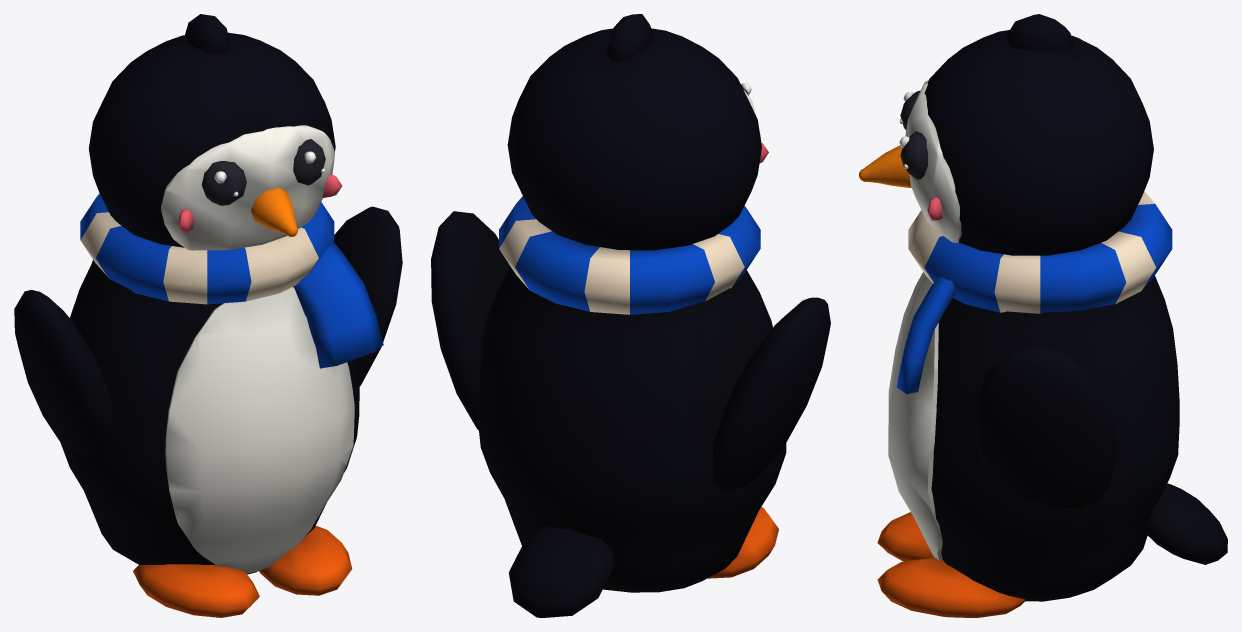
File: Penguin.fbx
The picture shows the model from 3 angles, left to right: view 1: azimuth 30°, elevation 25°; view 2: azimuth 150°, elevation 25°; view 3: azimuth 270°, elevation 25°; orthographic projection. The views are drawn at different scales.
Parts seen in each view (by area): view 1: Penguin, Head; view 2: Penguin, Head, Tail; view 3: Penguin, Head, Tail.
Part boxes in pixels (x1,y1,x2,y2): Penguin: [14, 193, 402, 617]; Head: [88, 14, 342, 250]; Penguin: [431, 196, 830, 592]; Head: [507, 14, 768, 250]; Tail: [509, 525, 614, 617]; Penguin: [877, 191, 1179, 617]; Head: [859, 14, 1153, 255]; Tail: [1146, 483, 1227, 564].
Size of the model in its own units: 0.4318 by 0.6182 by 0.3637.
